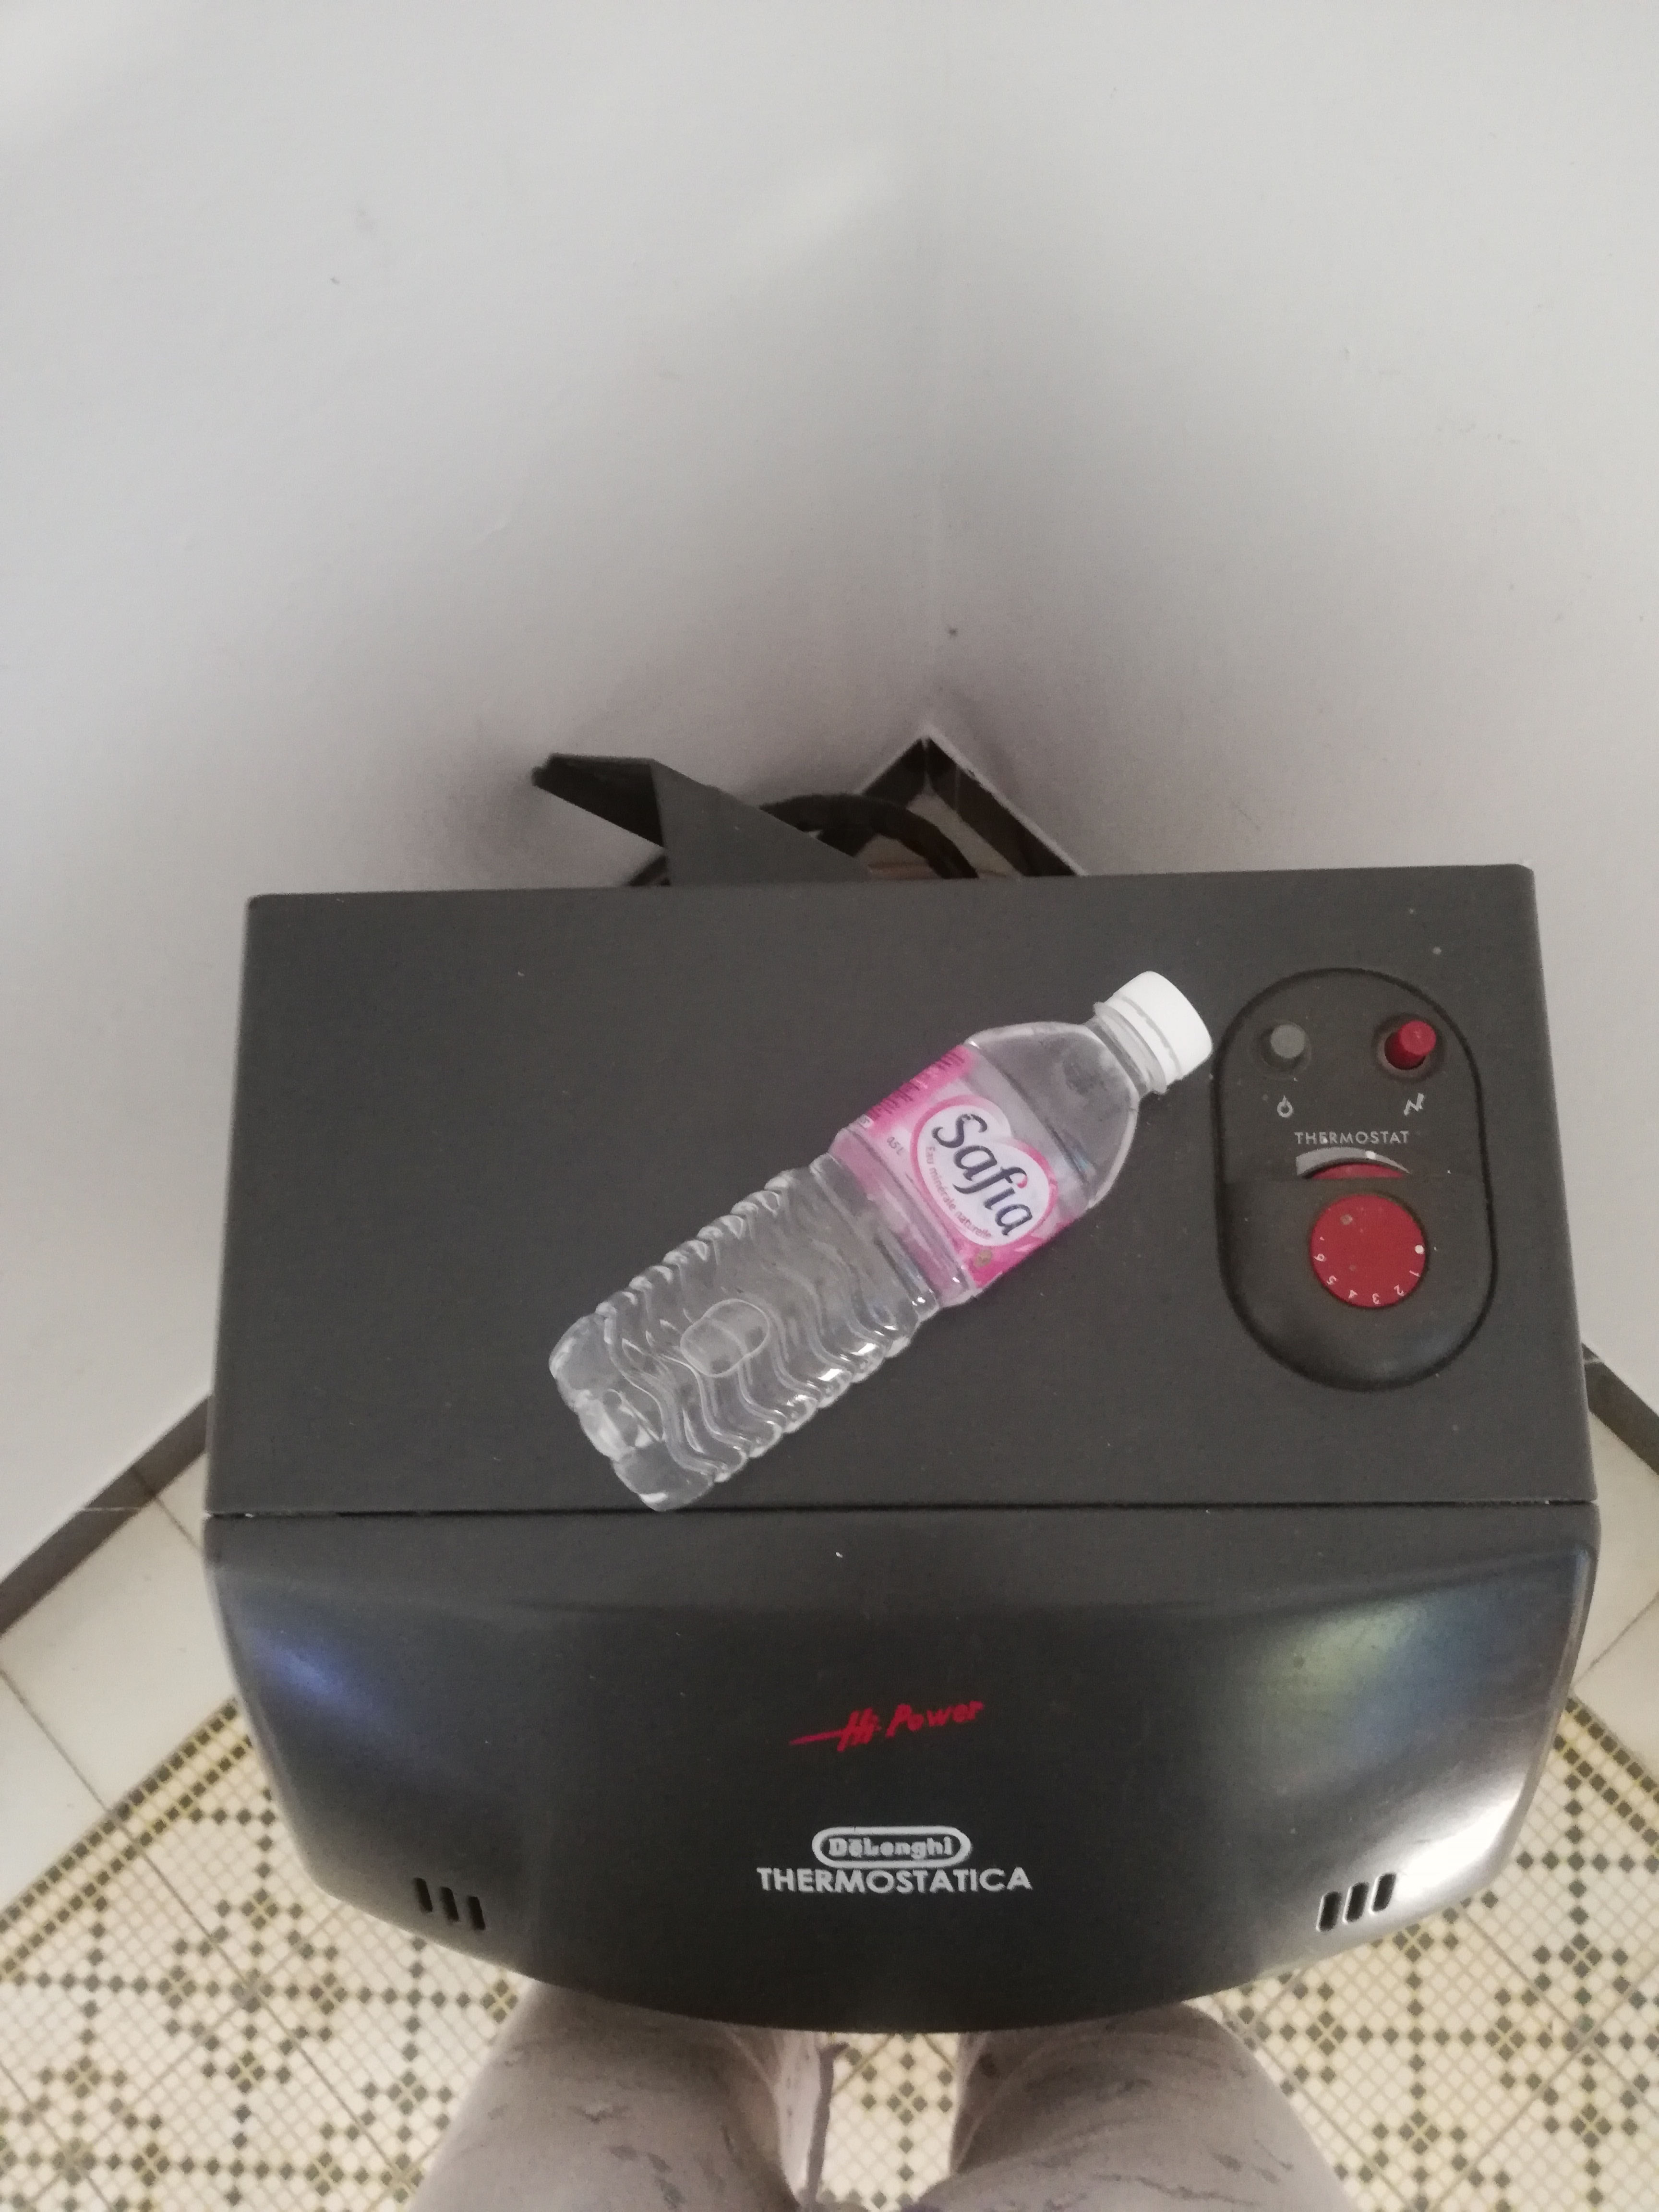Eau safia: (549, 968, 1213, 1503)
